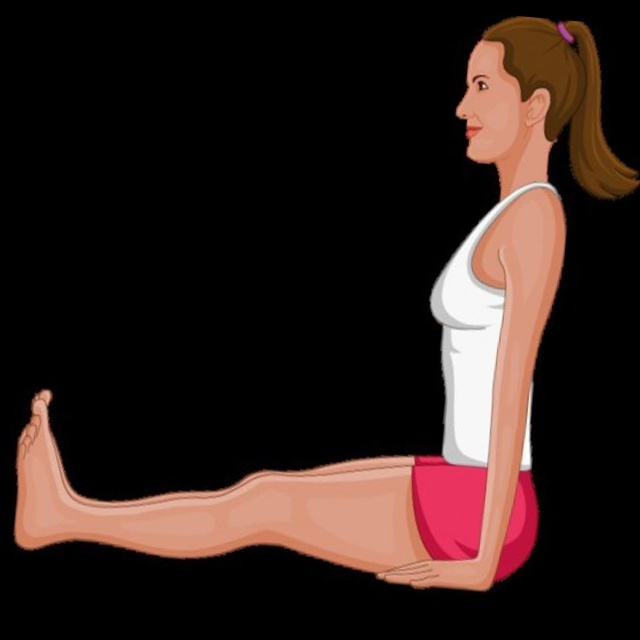Staff_Pose: (16, 18, 581, 595)
